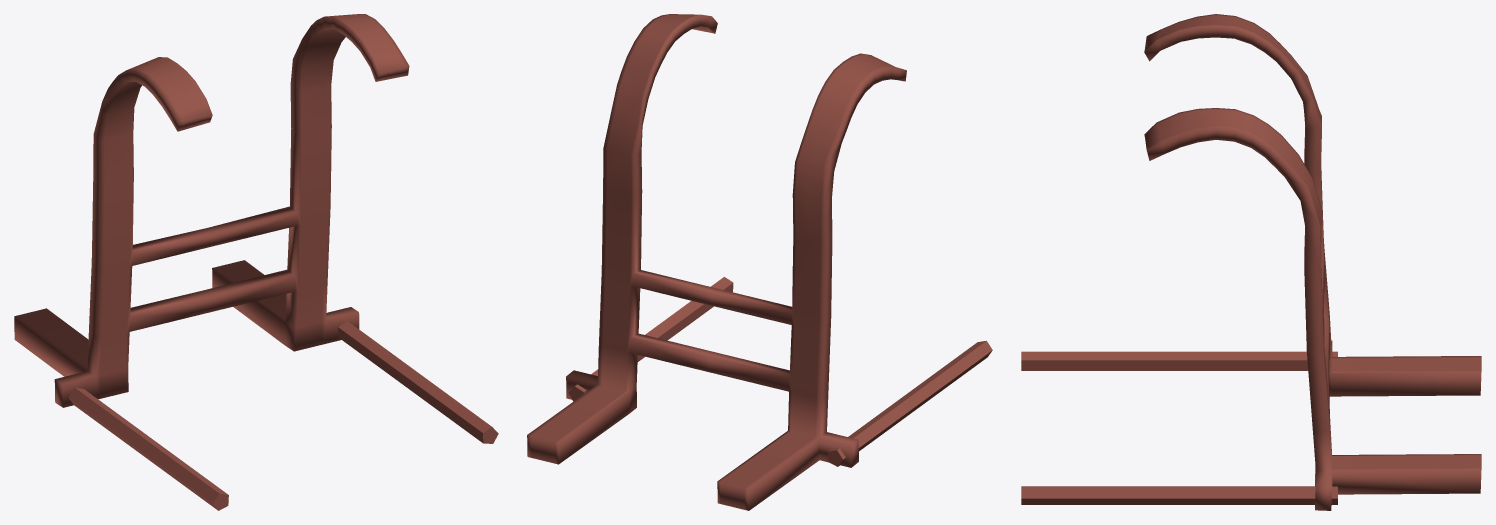
The model's file is Holder.fbx.
3 renders of one model, left to right at view 1: azimuth 30°, elevation 25°; view 2: azimuth 150°, elevation 25°; view 3: azimuth 270°, elevation 25°, orthographic. The views are drawn at different scales.
Parts seen in each view (by area): view 1: Holder; view 2: Holder; view 3: Holder.
Boxes of the visible parts, <box> form: Holder: <box>14,14,498,510</box>; Holder: <box>527,14,992,510</box>; Holder: <box>1021,14,1481,510</box>.
Size of the model in its own units: 132 by 156 by 175.
